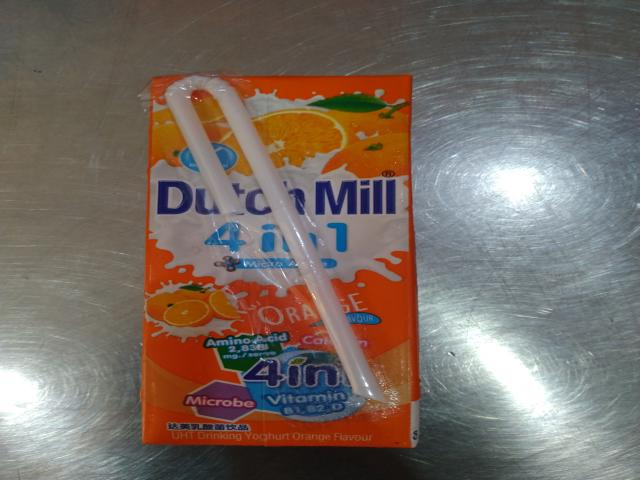drink_box: (117, 57, 447, 466)
